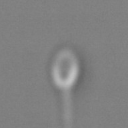normal: (51, 90, 85, 127)
